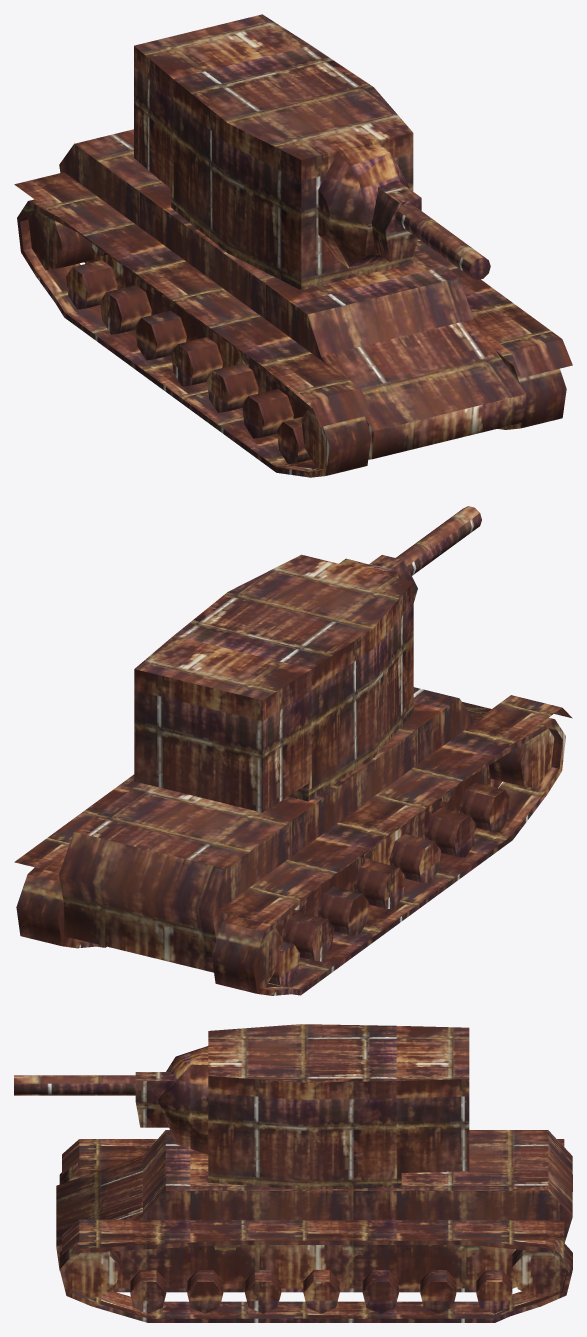
3 views of the same model, one above another, from view 1: azimuth 30°, elevation 25°; view 2: azimuth 150°, elevation 25°; view 3: azimuth 270°, elevation 25° (orthographic). The views are drawn at different scales.
Visible parts, largest first — view 1: Turret, Chassis, Guard001, Wheel002, Track002, Mantlet, Guard, MantletMK2, Track01, Barrel; view 2: Turret, Chassis, Wheel002, Guard001, Track002, Track01, Guard, Barrel, MantletMK2; view 3: Chassis, Turret, Wheel01, Track01, Guard, Mantlet, Barrel, Guard001, MantletMK2, Track002, Wheel03.
Part boxes in pixels (box(x1,y1,x2,y2)): Turret: box(134, 14, 413, 290); Chassis: box(59, 129, 526, 459); Guard001: box(14, 172, 371, 426); Wheel002: box(28, 210, 326, 469); Track002: box(17, 199, 371, 477); Mantlet: box(318, 144, 409, 267); Guard: box(416, 238, 572, 377); MantletMK2: box(371, 180, 421, 261); Track01: box(481, 330, 566, 429); Barrel: box(395, 203, 490, 280); Turret: box(134, 554, 413, 812); Chassis: box(59, 687, 502, 972); Wheel002: box(256, 728, 554, 987); Guard001: box(217, 695, 572, 923); Track002: box(211, 717, 565, 995); Track01: box(16, 867, 106, 948); Guard: box(14, 774, 139, 872); Barrel: box(396, 506, 481, 575); MantletMK2: box(369, 555, 417, 602); Chassis: box(56, 1130, 572, 1292); Turret: box(208, 1024, 469, 1189); Wheel01: box(65, 1249, 566, 1313); Track01: box(59, 1240, 572, 1322); Guard: box(62, 1219, 564, 1254); Mantlet: box(158, 1045, 208, 1154); Barrel: box(14, 1075, 135, 1095); Guard001: box(62, 1139, 564, 1174); MantletMK2: box(135, 1072, 174, 1127); Track002: box(59, 1159, 572, 1191); Wheel03: box(214, 1245, 479, 1257).
Bounding box in the file's own units: 23.19 × 23.71 × 54.12.
